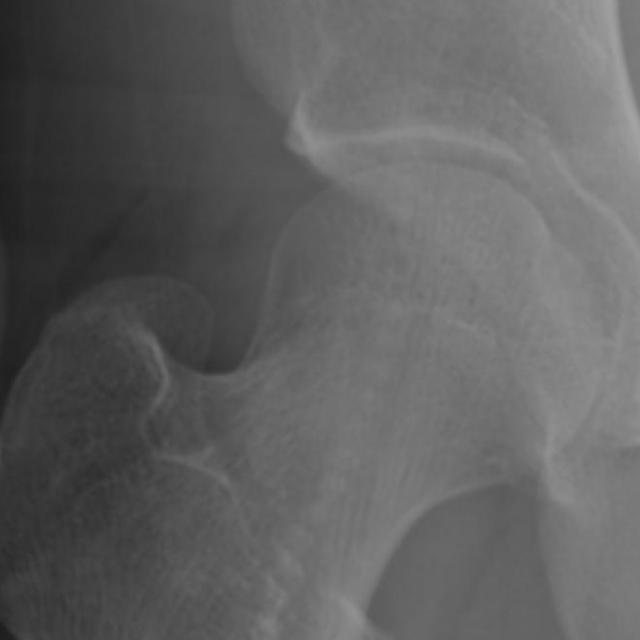Fitted_femural_head: (328, 171, 432, 328)
